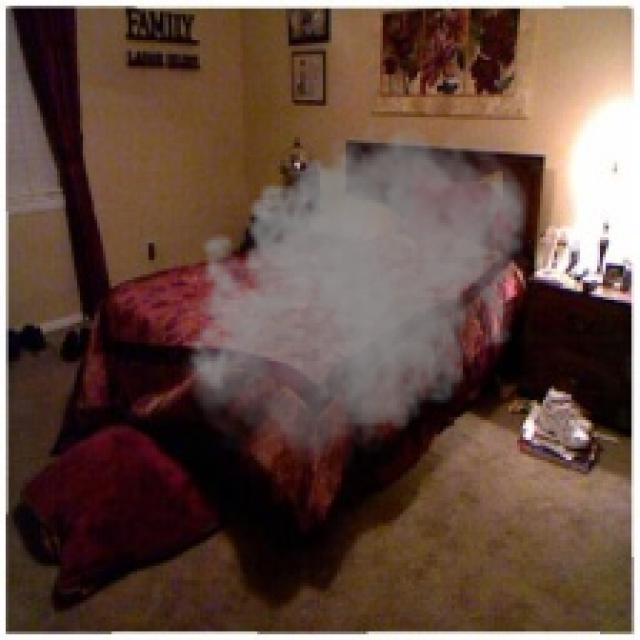smoke: (177, 117, 534, 477)
